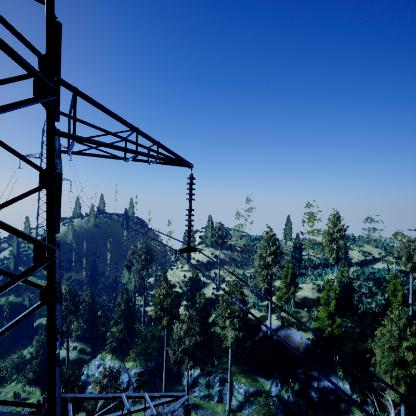insulator: (183, 174, 197, 249)
